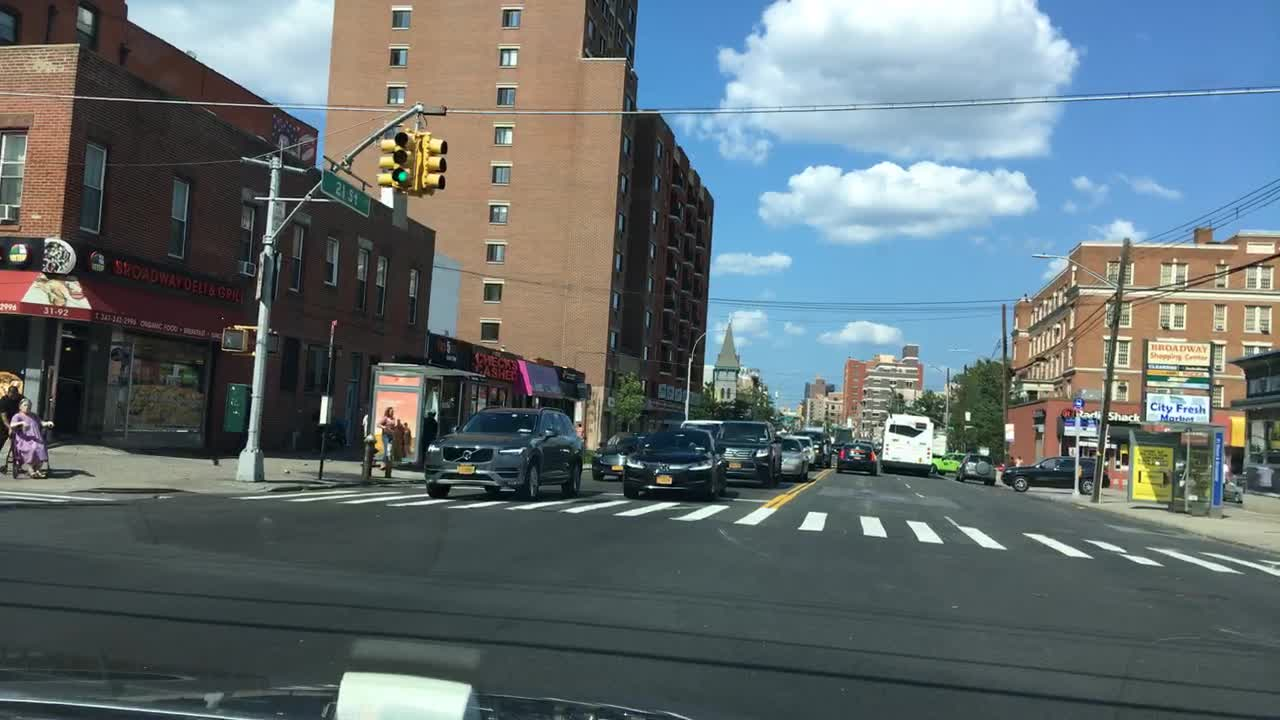bus: (879, 407, 936, 475)
car: (423, 406, 584, 500), (622, 426, 727, 503), (713, 418, 784, 486), (1002, 456, 1107, 495), (589, 432, 645, 481), (1176, 461, 1240, 500), (832, 440, 879, 473), (776, 435, 808, 481), (957, 452, 995, 488), (802, 429, 834, 466), (791, 435, 817, 467), (936, 452, 962, 472)
person: (8, 399, 48, 477), (1, 371, 23, 468), (377, 405, 400, 472), (420, 413, 438, 449), (1015, 452, 1023, 467), (1008, 455, 1014, 467)
traffic light: (389, 127, 417, 193), (423, 132, 446, 196), (377, 125, 392, 190), (220, 330, 251, 350), (263, 333, 282, 351)
traffic sign: (318, 165, 374, 218), (253, 250, 266, 302), (270, 250, 283, 302), (1062, 406, 1075, 422), (1080, 409, 1091, 426), (1071, 393, 1083, 408)
